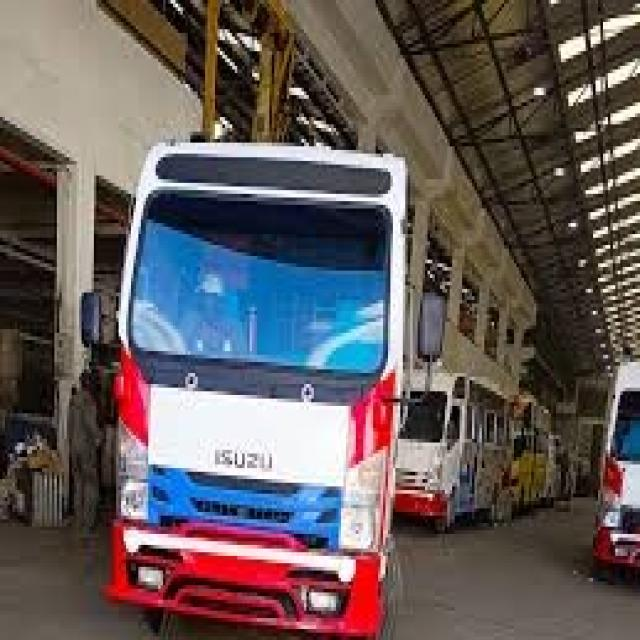bus: (55, 61, 452, 640)
